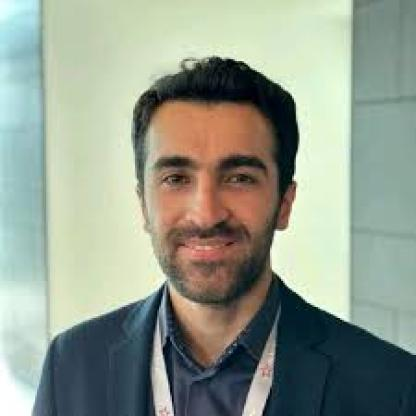person: (124, 53, 302, 309)
